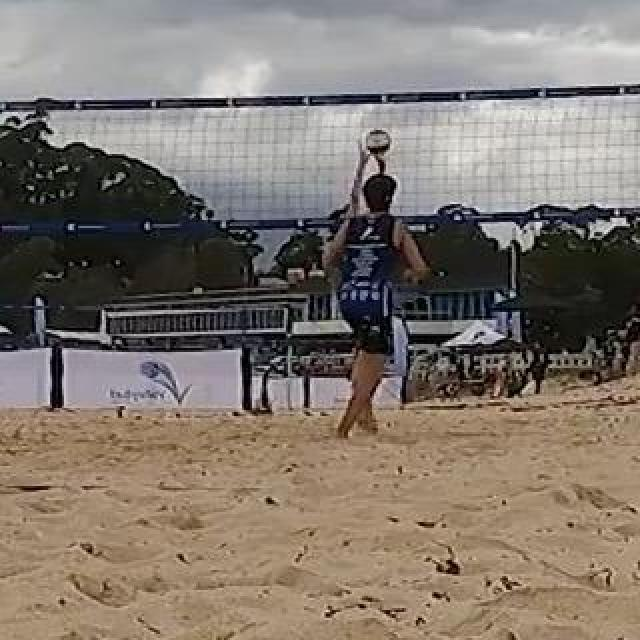volleyball: (365, 128, 391, 156)
